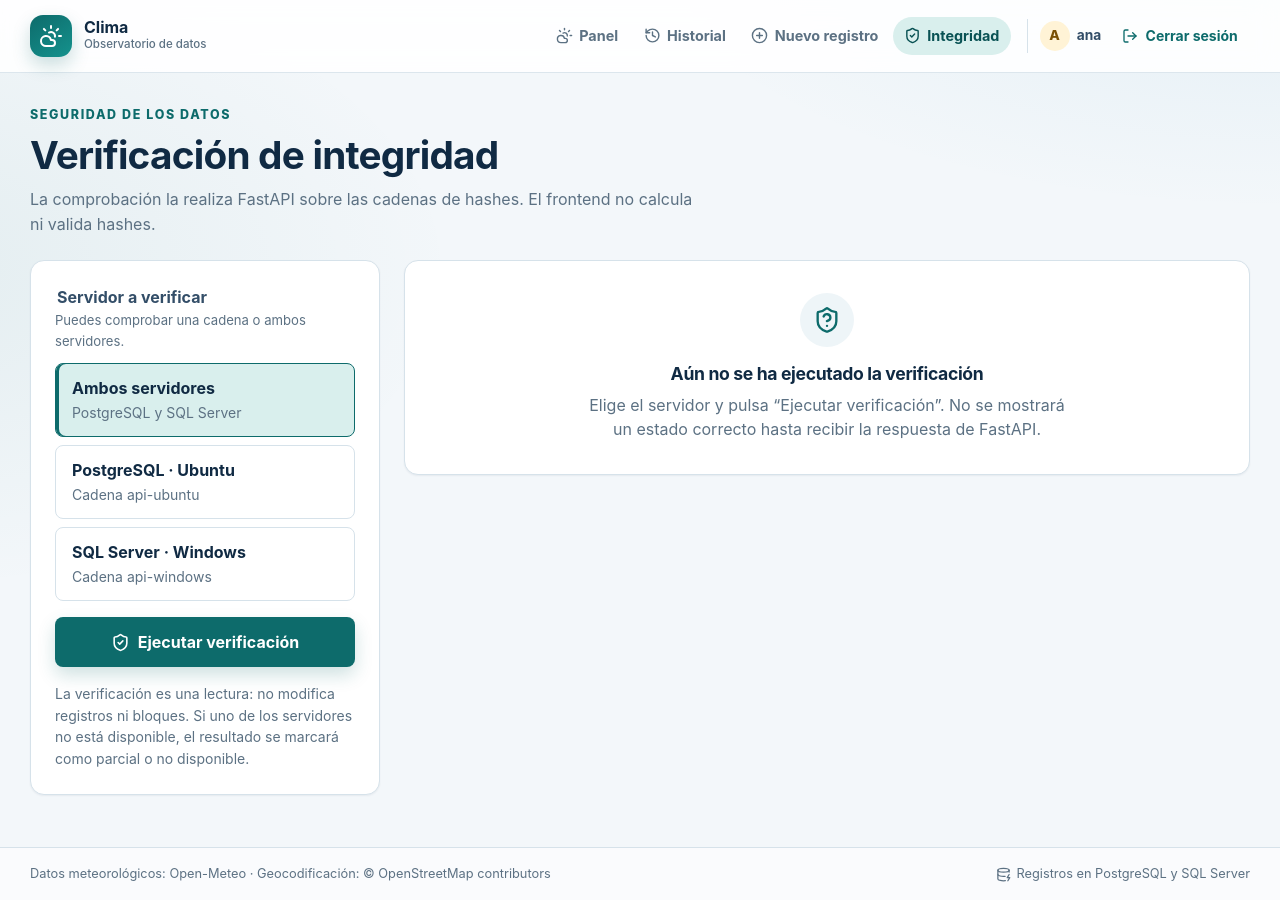
Test: verificación de integridad › permite verificar solo un servidor
This screenshot has width=1280, height=900.
expect the heading "Verificación de integridad" is shown: met, box [30,131,498,178]
Click the radio button labelled "SQL Server · Windows Cadena api-windows" at [205, 564], box [55,527,355,601]
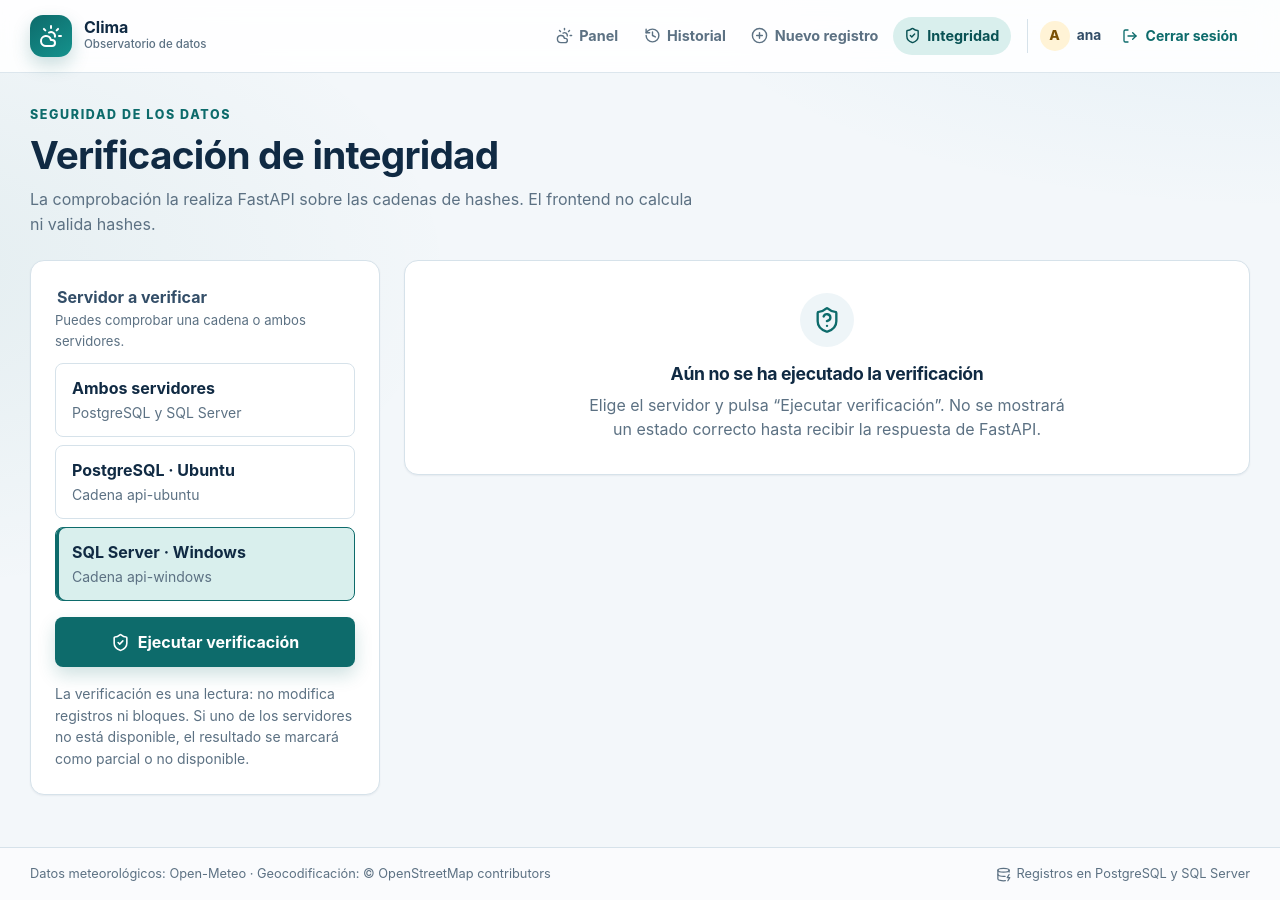
Click the button "Ejecutar verificación" at [205, 642], box [55,617,355,667]
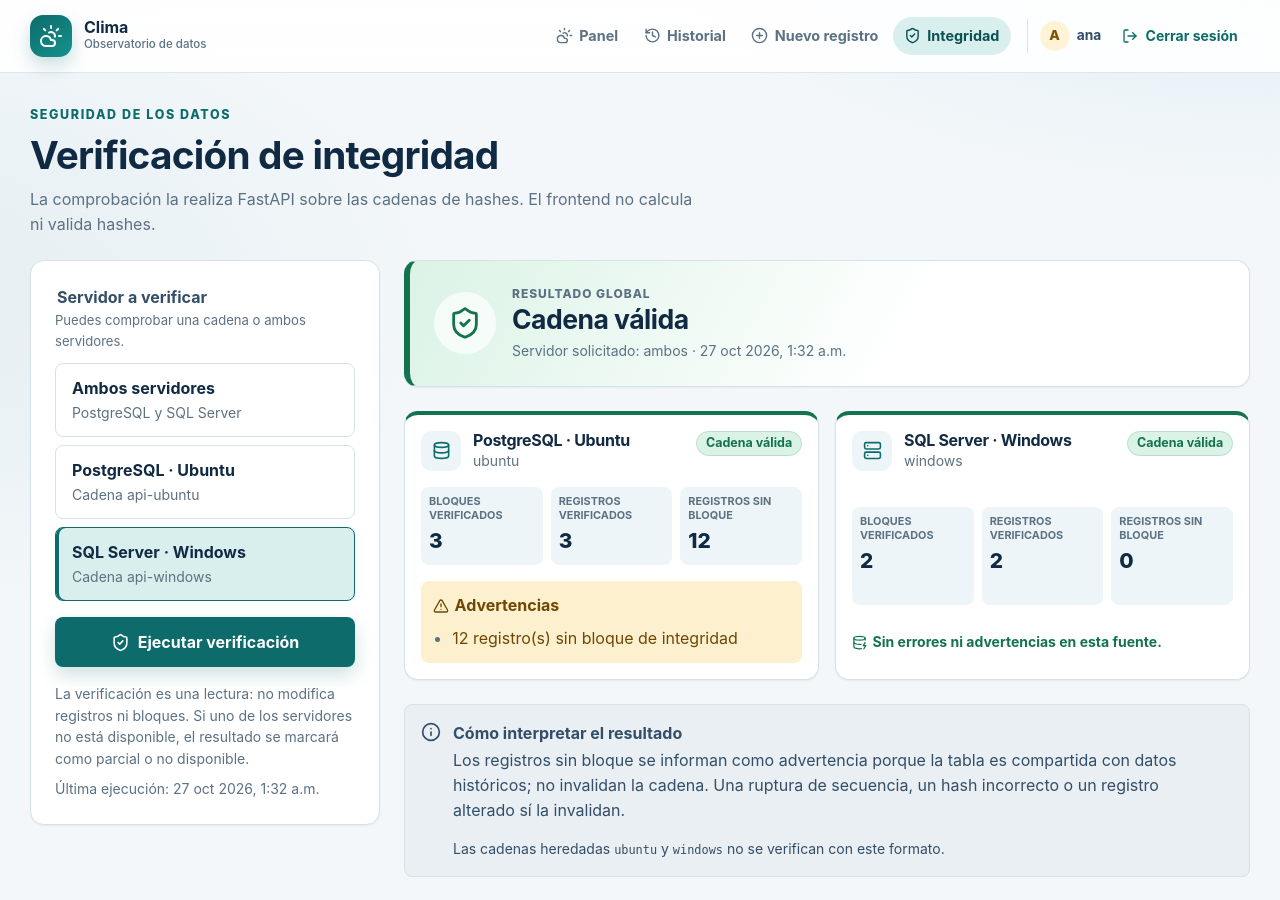
expect the 1st text "windows" is shown: met, box [904,452,963,469]
